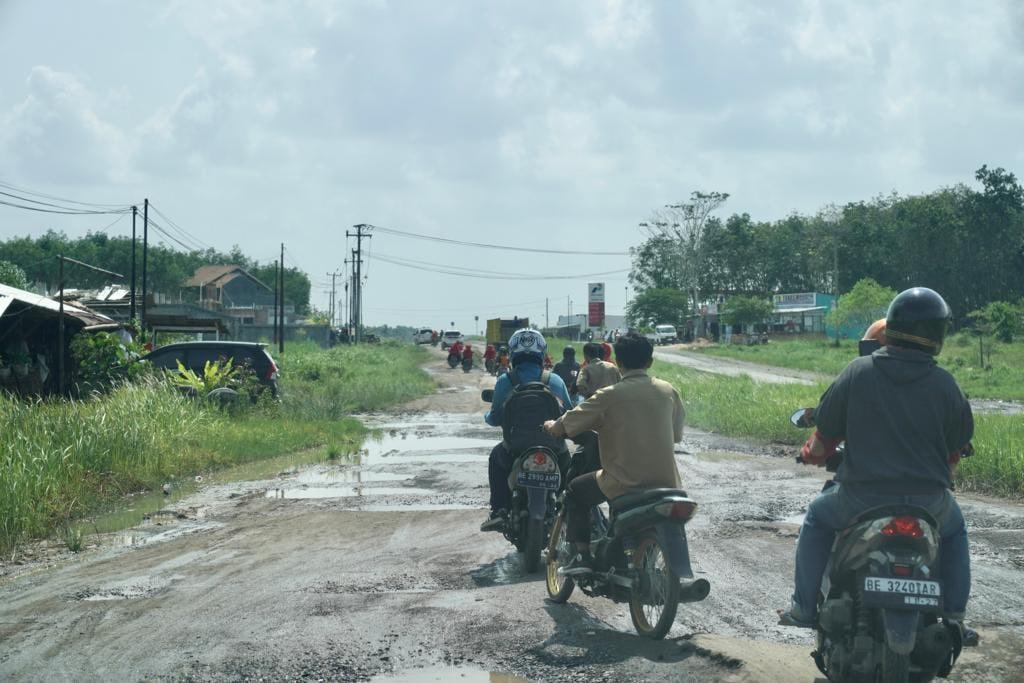Pothole: (2, 448, 372, 606), (297, 549, 563, 683), (331, 383, 512, 515), (657, 575, 836, 683), (697, 465, 839, 551)
